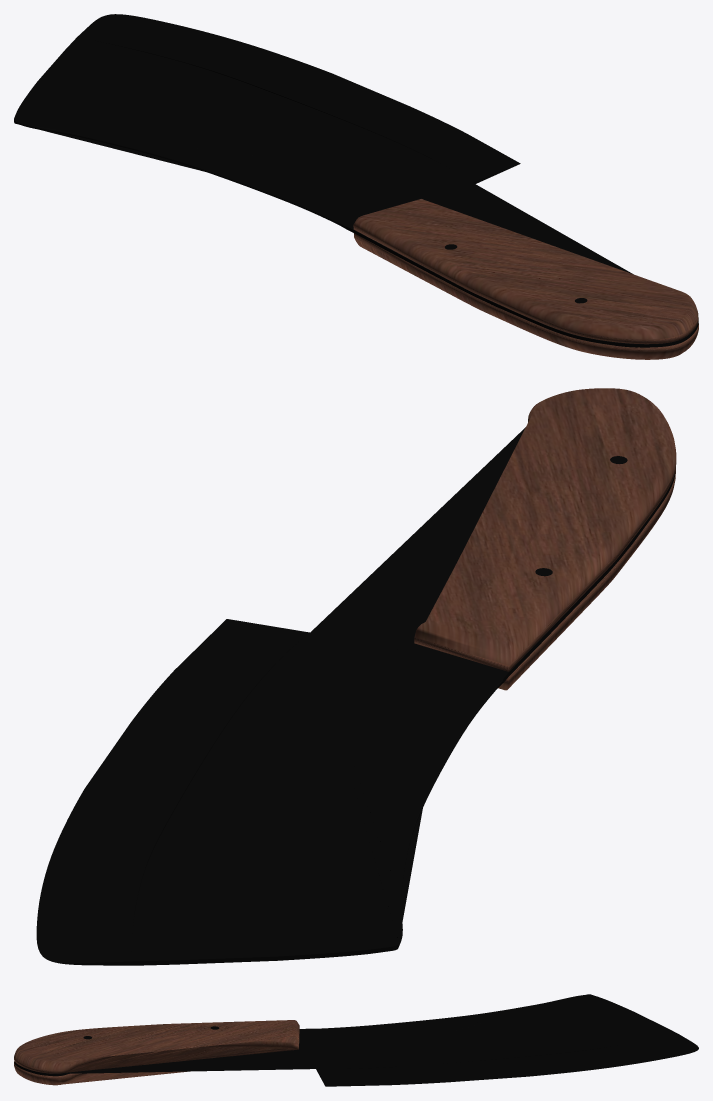
File: Tisak.obj
3 renders of one model, top to bottom at view 1: azimuth 30°, elevation 25°; view 2: azimuth 150°, elevation 25°; view 3: azimuth 270°, elevation 25°, orthographic. The views are drawn at different scales.
Parts seen in each view (by area): view 1: Line03, Line02; view 2: Line03, Line02; view 3: Line03, Line02.
Boxes of the visible parts, bbox=[...] form: Line03: bbox=[14, 14, 698, 347]; Line02: bbox=[353, 199, 698, 359]; Line03: bbox=[36, 427, 675, 965]; Line02: bbox=[414, 388, 676, 690]; Line03: bbox=[14, 994, 698, 1086]; Line02: bbox=[14, 1020, 299, 1085].
Bounding box in the file's own units: 19.61 × 2.73 × 53.54.
